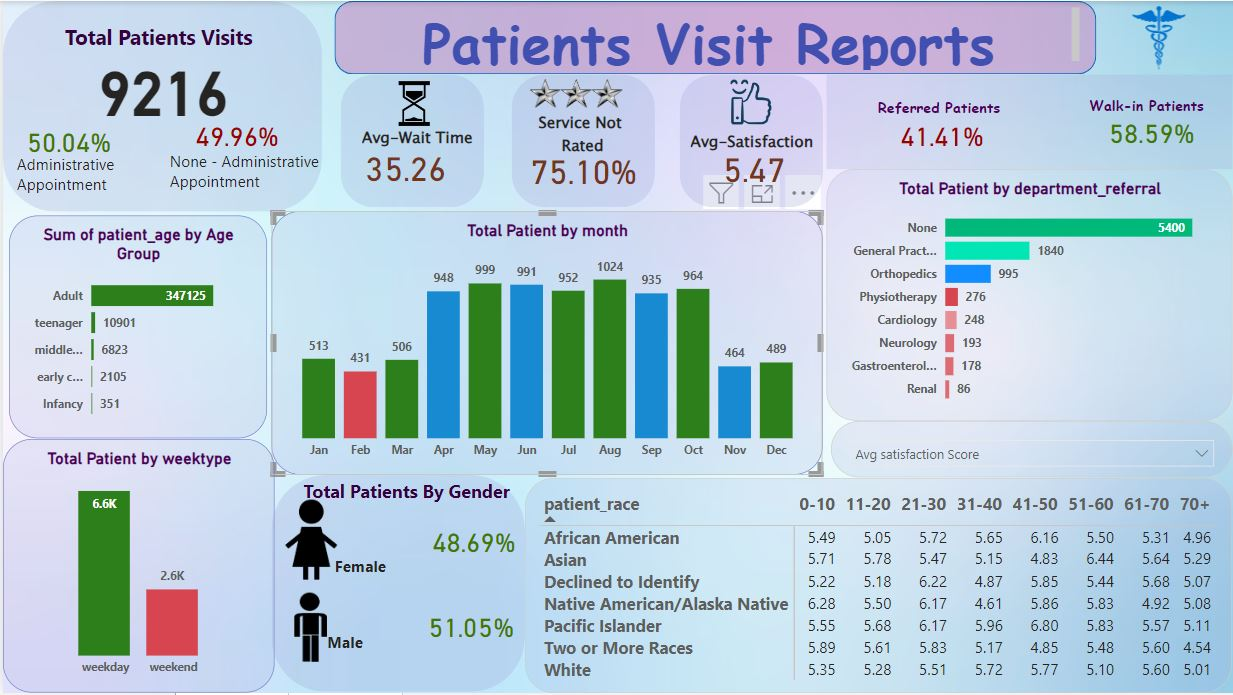

What the dashboard file says about the page in this screenshot:
{"tool":"powerbi","page":{"name":"Page 1","canvas":[1280,720],"ordinal":0},"visuals":[{"type":"shape","box":[529.3,76.3,149.4,138.3],"z":0},{"type":"shape","box":[351.3,76.3,149.4,138.3],"z":1000},{"type":"shape","box":[856.7,76.3,422.8,98.5],"z":2000},{"type":"card","fields":{"Values":["calculation.% Reffered patient"]},"box":[890.1,109.7,174.8,60.4],"z":3000},{"type":"card","fields":{"Values":["calculation.% No Rating"]},"box":[529.3,125.6,149.4,100.1],"z":4000},{"type":"pivotTable","fields":{"Values":["calculation.Avg satisfaction Score"],"Rows":["Hospital ER.patient_race"],"Columns":["Hospital ER.Age Bucket"]},"box":[543.6,495.9,735.9,224.1],"z":5000},{"type":"clusteredBarChart","fields":{"Category":["Hospital ER.Age Group"],"Y":["Sum(Hospital ER.patient_age)"]},"box":[6.4,224.1,268.6,232.1],"z":6000},{"type":"slicer","fields":{"Values":["Parameter.Parameter"]},"box":[861.5,437.1,418,58.8],"z":7000},{"type":"lineStackedColumnComboChart","fields":{"Category":["Date.month"],"Y":["calculation.Total Patient"]},"box":[279.7,219.3,573.8,275],"z":8000},{"type":"card","fields":{"Values":["calculation.% unreffered patient"]},"box":[1112.6,97,166.9,77.9],"z":9000},{"type":"textbox","box":[906,95.4,173.2,39.7],"z":10000},{"type":"textbox","box":[1125.3,93.8,143,39.7],"z":11000},{"type":"shape","box":[704.1,76.3,149.4,138.3],"z":12000},{"type":"card","fields":{"Values":["Hospital ER.Avg wait time"]},"box":[351.3,125.6,135.1,93.8],"z":13000},{"type":"textbox","box":[368.7,125.6,152.6,46.1],"z":14000},{"type":"textbox","box":[710.5,130.3,151,46.1],"z":15000},{"type":"textbox","box":[527.7,109.7,151,73.1],"z":16000},{"type":"barChart","fields":{"Y":["calculation.Total Patient"],"Category":["Hospital ER.department_referral"]},"box":[856.7,174.8,422.8,262.3],"z":17000},{"type":"columnChart","fields":{"Category":["Date.weektype"],"Y":["calculation.Total Patient"]},"box":[0,456.2,282.9,263.8],"z":18000},{"type":"shape","box":[344.9,0,793.1,76.3],"z":19000},{"type":"card","fields":{"Values":["calculation.Avg satisfaction Score"]},"box":[724.8,131.9,112.8,82.6],"z":20000},{"type":"shape","box":[0,0,332.2,219.3],"z":21000},{"type":"textbox","box":[58.8,17.5,214.6,41.3],"z":22000},{"type":"card","fields":{"Values":["calculation.Total Patient"]},"box":[66.8,49.3,198.7,76.3],"z":23000},{"type":"textbox","box":[168.5,149.4,232.1,58.8],"z":24000},{"type":"textbox","box":[9.5,152.6,120.8,58.8],"z":25000},{"type":"card","fields":{"Values":["calculation.% Administrive Schedule"]},"box":[9.5,125.6,117.6,41.3],"z":26000},{"type":"card","fields":{"Values":["calculation.%Non- Administrive Schedule"]},"box":[193.9,119.2,100.1,41.3],"z":27000},{"type":"shape","box":[279.7,494.3,263.8,225.7],"z":28000},{"type":"card","fields":{"Values":["calculation.% Male Patient"]},"box":[416.4,583.3,139.9,136.7],"z":29000},{"type":"card","fields":{"Values":["calculation.% Female Patient"]},"box":[419.6,494.3,139.9,136.7],"z":30000},{"type":"image","box":[273.4,610.3,93.8,82.6],"z":31000},{"type":"image","box":[273.4,513.4,95.4,93.8],"z":32000},{"type":"textbox","box":[340.1,572.2,120.8,58.8],"z":33000},{"type":"textbox","box":[332.2,651.7,120.8,58.8],"z":34000},{"type":"textbox","box":[308.3,492.7,235.2,41.3],"z":35000},{"type":"textbox","box":[351.3,0,774,76.3],"z":36000},{"type":"image","box":[400.5,77.9,57.2,57.2],"z":37000},{"type":"image","box":[543.6,38.1,106.5,117.6],"z":38000},{"type":"image","box":[739.1,76.3,79.5,57.2],"z":39000},{"type":"image","box":[1138,0,130.3,76.3],"z":40000}]}

Visuals, with their boxes in screenshot pixels (x1, y1, x2, y2), scaled from the page's 1280x720 canvas onto the 1233x695 screenshot:
shape: x1=510, y1=74, x2=654, y2=207
shape: x1=338, y1=74, x2=482, y2=207
shape: x1=825, y1=74, x2=1232, y2=169
card - calculation.% Reffered patient: x1=857, y1=106, x2=1026, y2=164
card - calculation.% No Rating: x1=510, y1=121, x2=654, y2=218
pivotTable - calculation.Avg satisfaction Score x Hospital ER.patient_race: x1=524, y1=479, x2=1232, y2=694
clusteredBarChart - Hospital ER.Age Group x Sum(Hospital ER.patient_age): x1=6, y1=216, x2=265, y2=440
slicer - Parameter.Parameter: x1=830, y1=422, x2=1232, y2=479
lineStackedColumnComboChart - Date.month x calculation.Total Patient: x1=269, y1=212, x2=822, y2=477
card - calculation.% unreffered patient: x1=1072, y1=94, x2=1232, y2=169
textbox: x1=873, y1=92, x2=1040, y2=130
textbox: x1=1084, y1=91, x2=1222, y2=129
shape: x1=678, y1=74, x2=822, y2=207
card - Hospital ER.Avg wait time: x1=338, y1=121, x2=469, y2=212
textbox: x1=355, y1=121, x2=502, y2=166
textbox: x1=684, y1=126, x2=830, y2=170
textbox: x1=508, y1=106, x2=654, y2=176
barChart - calculation.Total Patient x Hospital ER.department_referral: x1=825, y1=169, x2=1232, y2=422
columnChart - Date.weektype x calculation.Total Patient: x1=0, y1=440, x2=273, y2=694
shape: x1=332, y1=0, x2=1096, y2=74
card - calculation.Avg satisfaction Score: x1=698, y1=127, x2=807, y2=207
shape: x1=0, y1=0, x2=320, y2=212
textbox: x1=57, y1=17, x2=263, y2=57
card - calculation.Total Patient: x1=64, y1=48, x2=256, y2=121
textbox: x1=162, y1=144, x2=386, y2=201
textbox: x1=9, y1=147, x2=126, y2=204
card - calculation.% Administrive Schedule: x1=9, y1=121, x2=122, y2=161
card - calculation.%Non- Administrive Schedule: x1=187, y1=115, x2=283, y2=155
shape: x1=269, y1=477, x2=524, y2=694
card - calculation.% Male Patient: x1=401, y1=563, x2=536, y2=694
card - calculation.% Female Patient: x1=404, y1=477, x2=539, y2=609
image: x1=263, y1=589, x2=354, y2=669
image: x1=263, y1=496, x2=355, y2=586
textbox: x1=328, y1=552, x2=444, y2=609
textbox: x1=320, y1=629, x2=436, y2=686
textbox: x1=297, y1=476, x2=524, y2=515
textbox: x1=338, y1=0, x2=1084, y2=74
image: x1=386, y1=75, x2=441, y2=130
image: x1=524, y1=37, x2=626, y2=150
image: x1=712, y1=74, x2=789, y2=129
image: x1=1096, y1=0, x2=1222, y2=74
